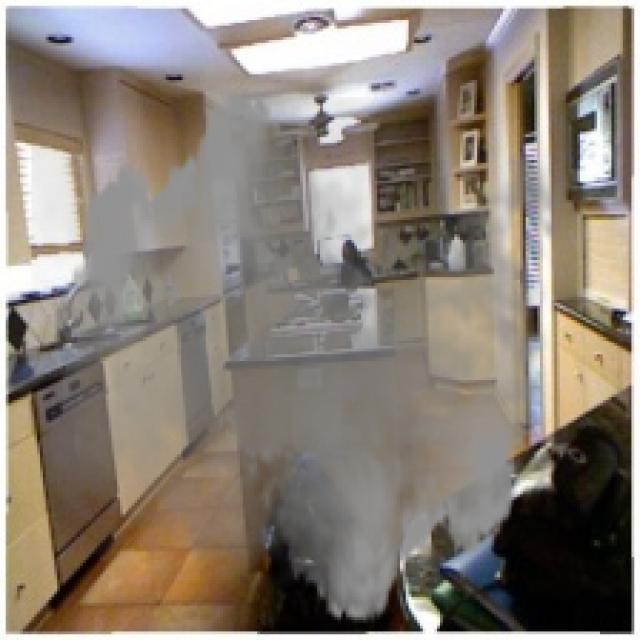smoke: (31, 77, 583, 637)
